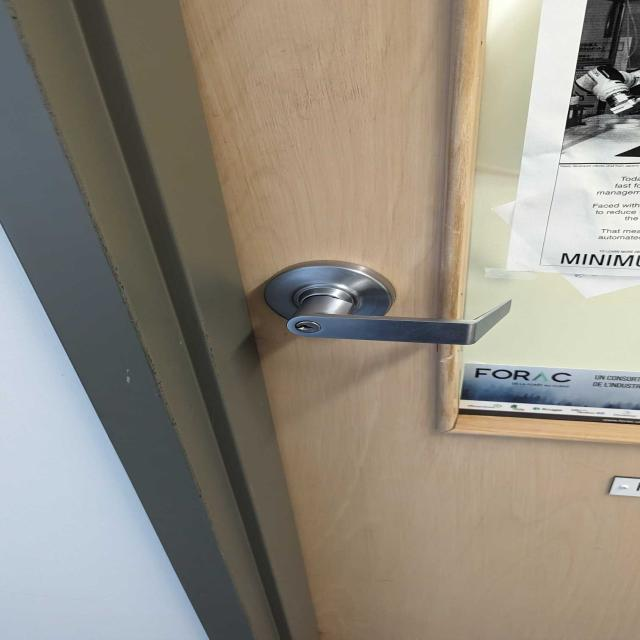door-handle: (264, 261, 511, 345)
